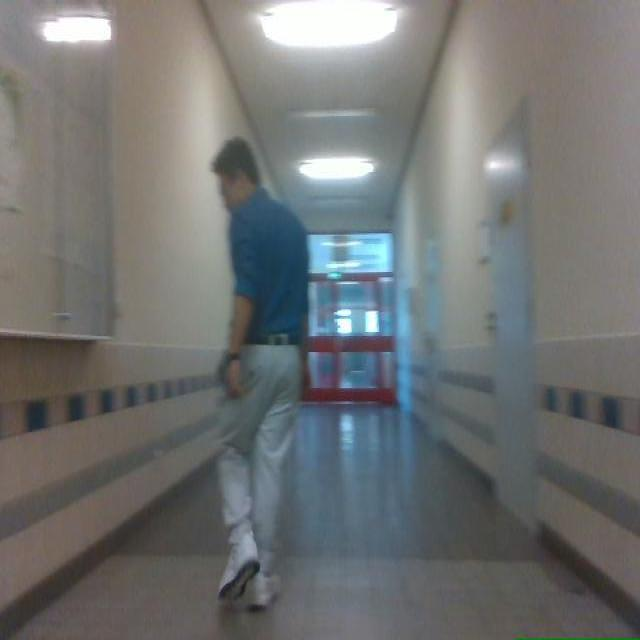humans: (211, 140, 309, 608)
